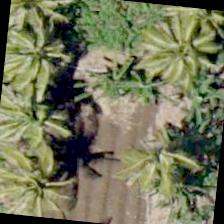Kelapa_Sawit: (112, 105, 210, 204), (127, 2, 223, 97), (1, 8, 82, 105), (0, 129, 82, 220), (0, 67, 74, 165), (7, 0, 76, 43)
